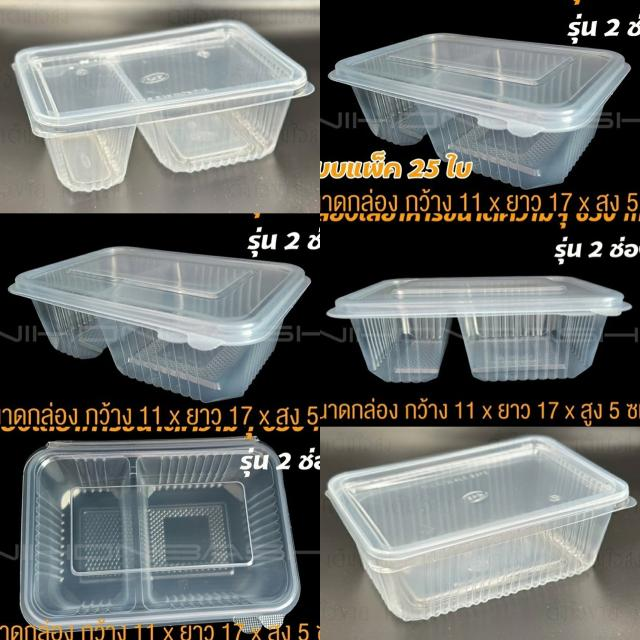Single-Use-Plastic: (326, 436, 634, 620), (20, 438, 300, 632), (13, 21, 314, 192), (9, 246, 310, 403), (329, 34, 629, 189), (328, 276, 630, 383)
